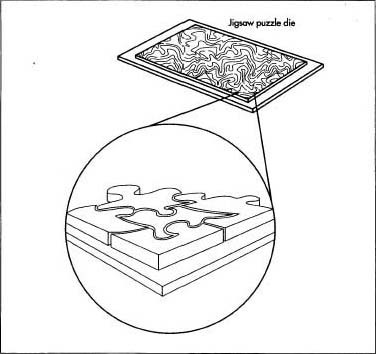puzzle piece: (119, 201, 234, 241)
